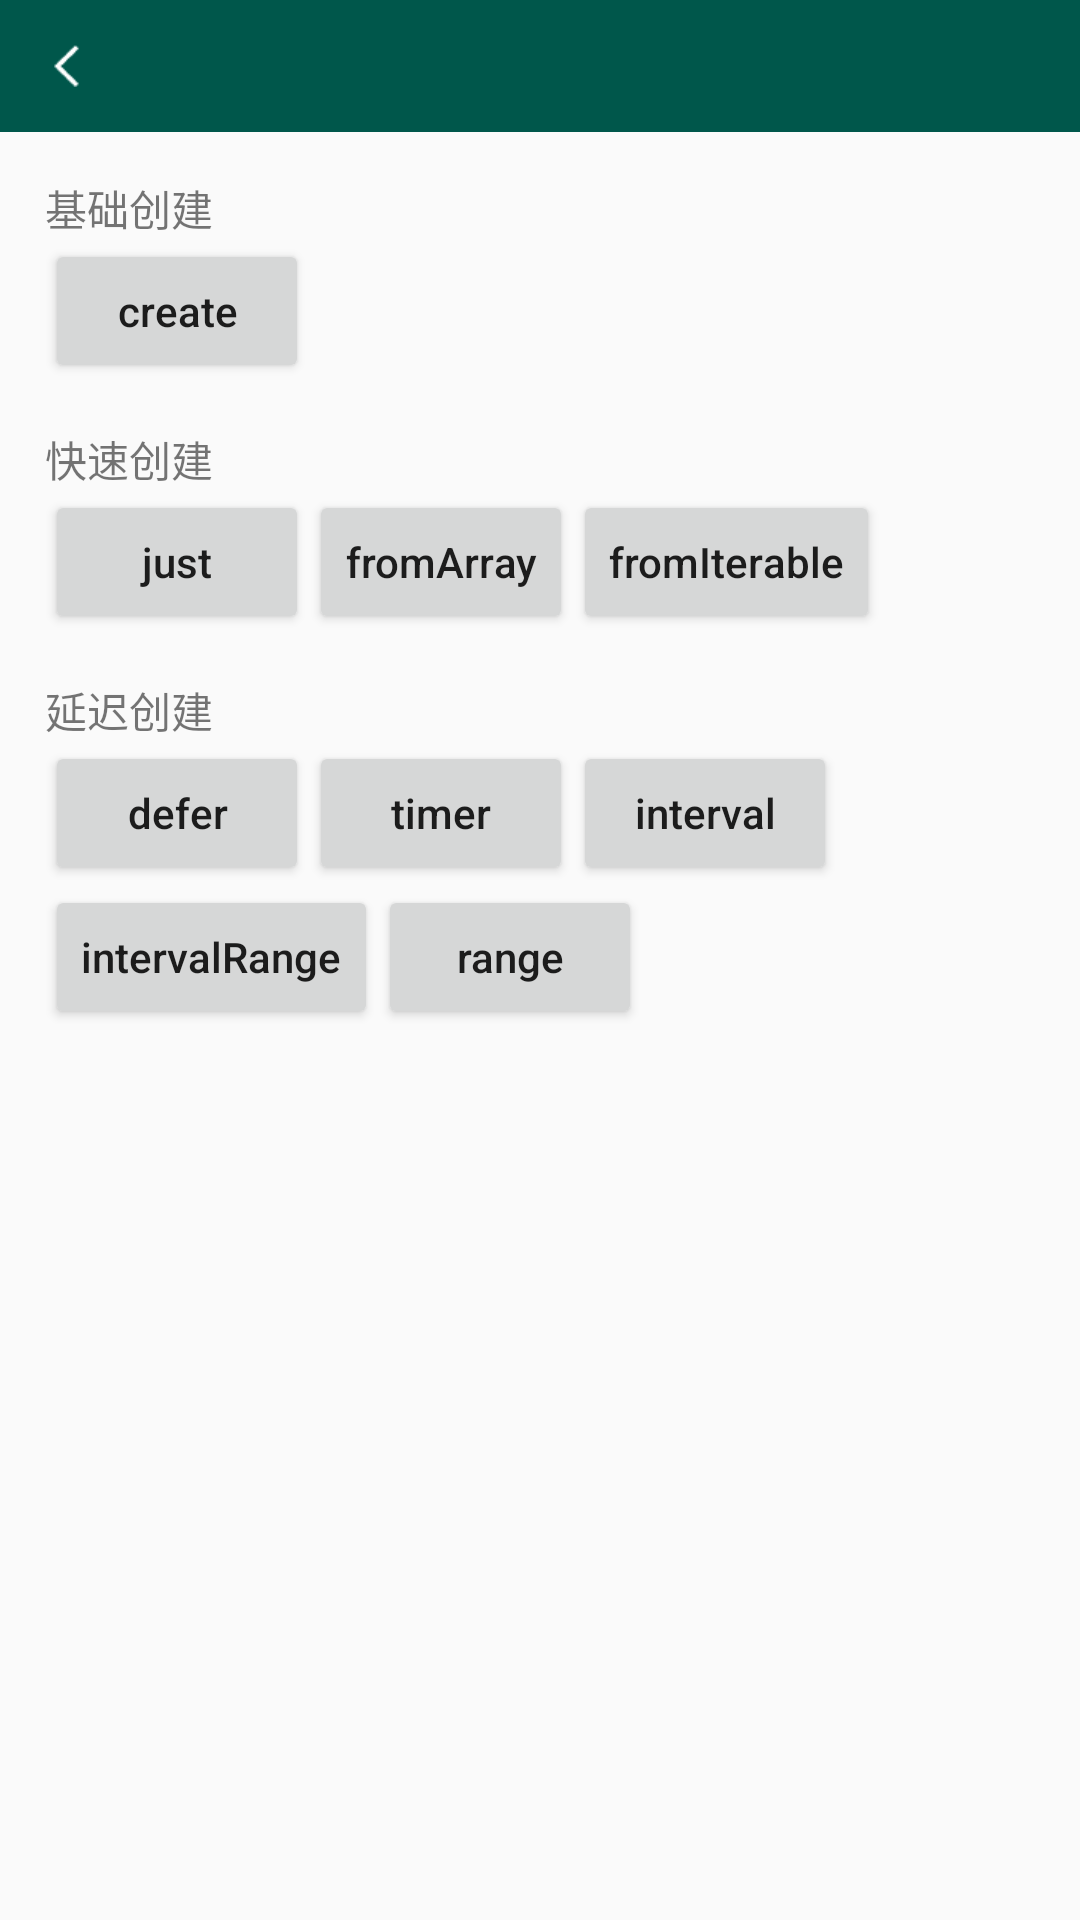

Named icons in this screenshot (1080 x 1920) and their centers, [x,y]:
back: [66,66]
